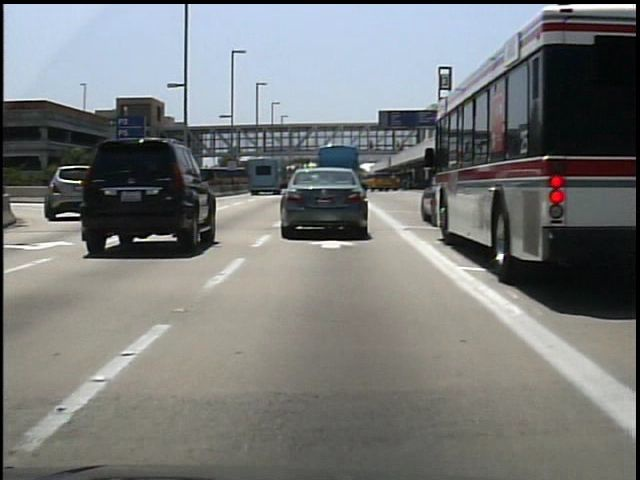person: (393, 135, 406, 157), (365, 136, 378, 157)
